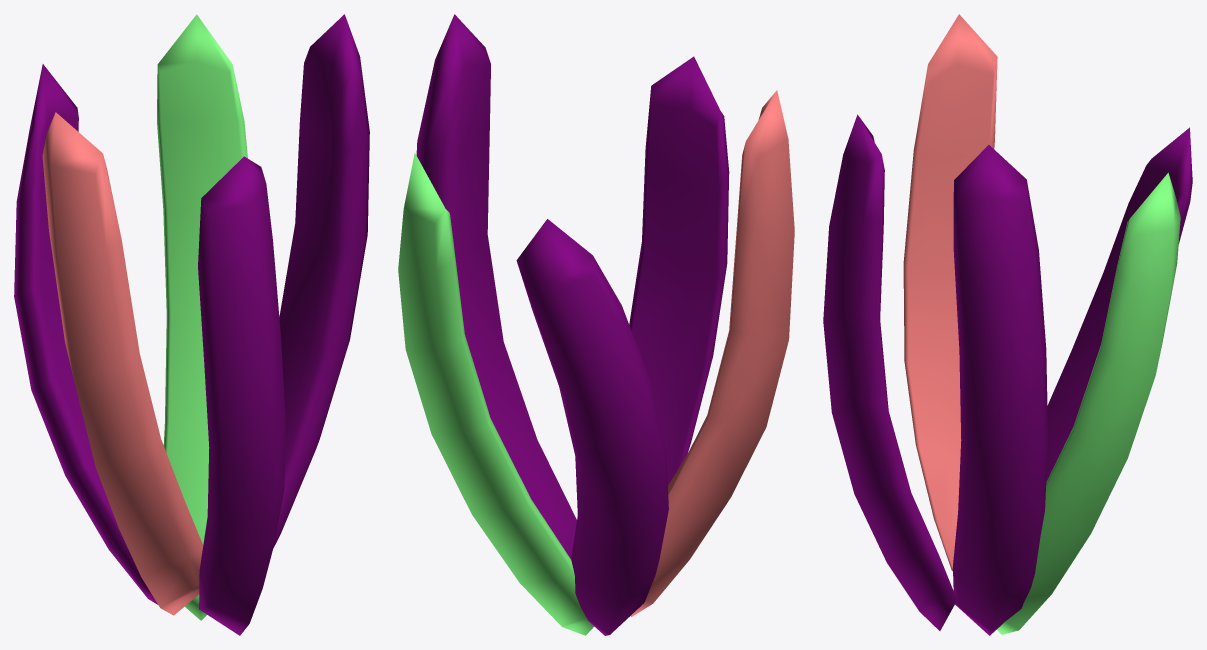
The model's file is Cactus09.fbx.
3 renders of one model, left to right at view 1: azimuth 30°, elevation 25°; view 2: azimuth 150°, elevation 25°; view 3: azimuth 270°, elevation 25°, orthographic. The views are drawn at different scales.
Visible parts, largest first — view 1: Low_Cactus09; view 2: Low_Cactus09; view 3: Low_Cactus09.
Boxes of the visible parts, <box> form: Low_Cactus09: <box>14,14,369,635</box>; Low_Cactus09: <box>398,14,794,635</box>; Low_Cactus09: <box>823,14,1192,635</box>.
Size of the model in its own units: 494 by 792 by 478.
